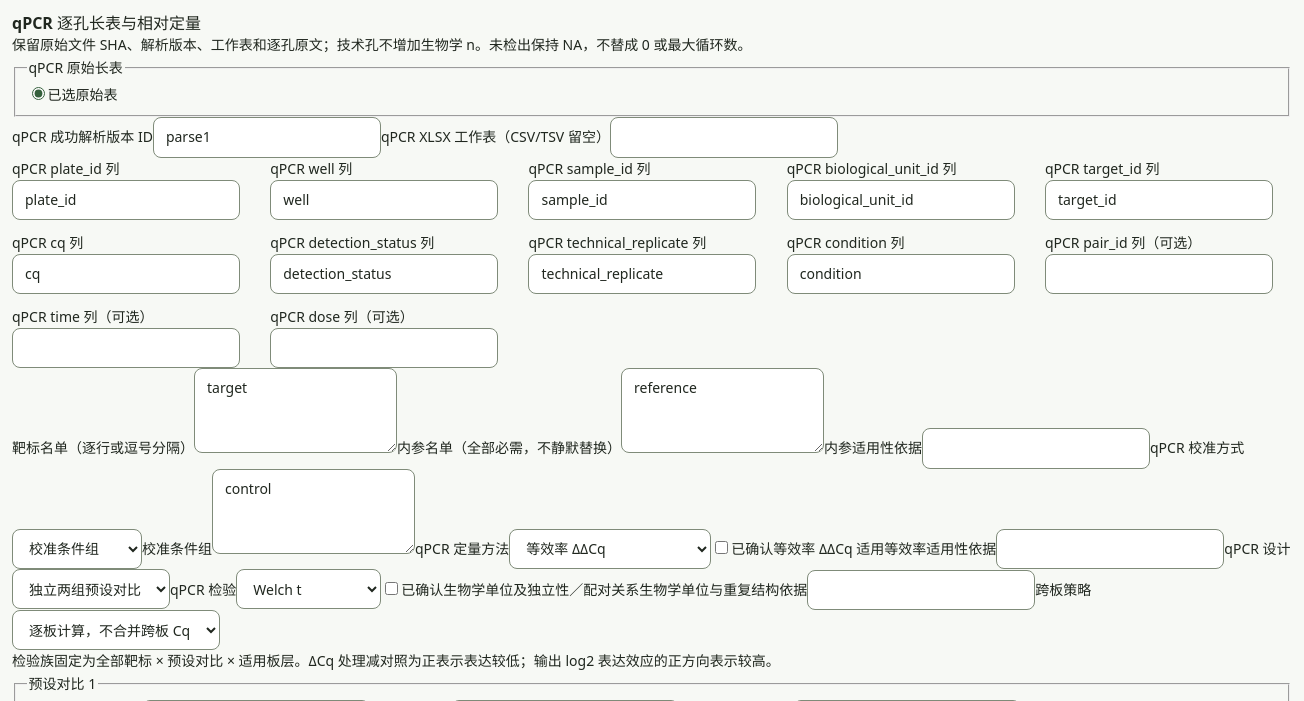
it: freezes the entire contrast family and switches method explicitly
The image size is (1304, 701).
Step 1. Select "完整配对预设对比" in the dropdown labelled "qPCR 设计" → (91, 589), box [12,569,170,609]
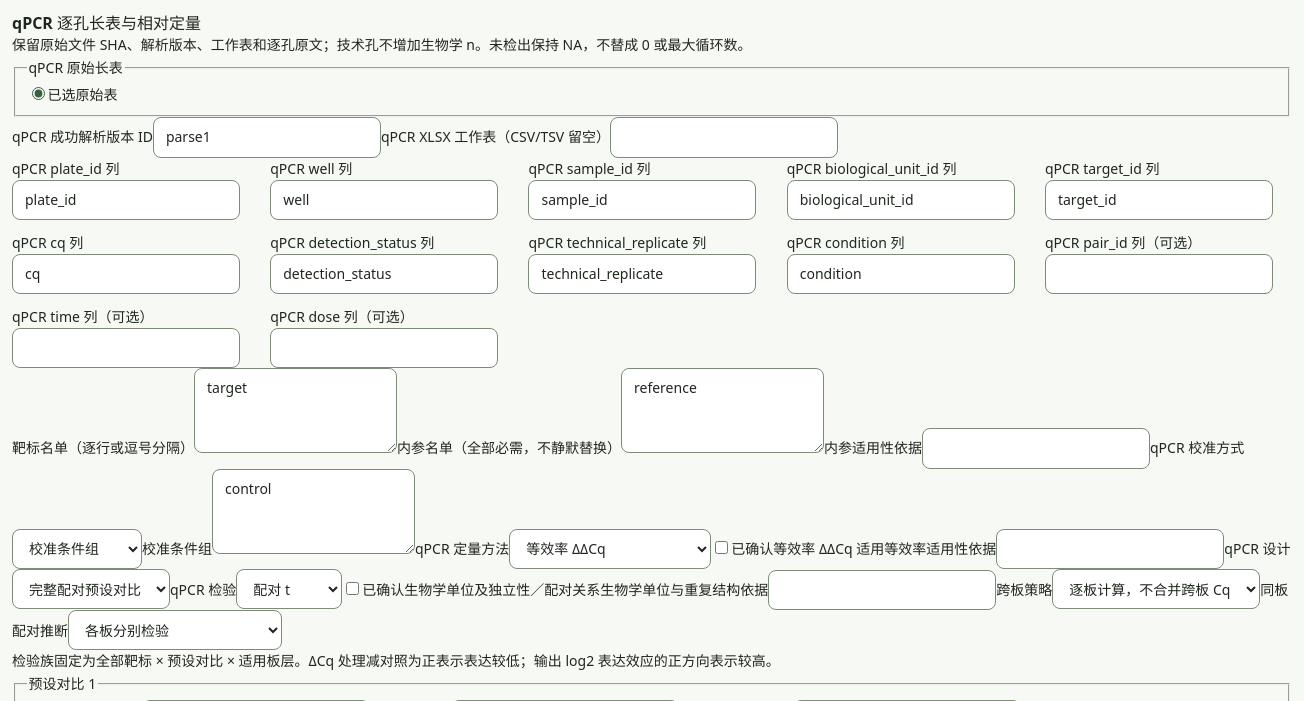
expect the dropdown labelled "qPCR 检验" shows "配对 t": met, box [236,569,342,609]
expect the dropdown labelled "同板配对推断" is shown: met, box [68,610,282,650]
